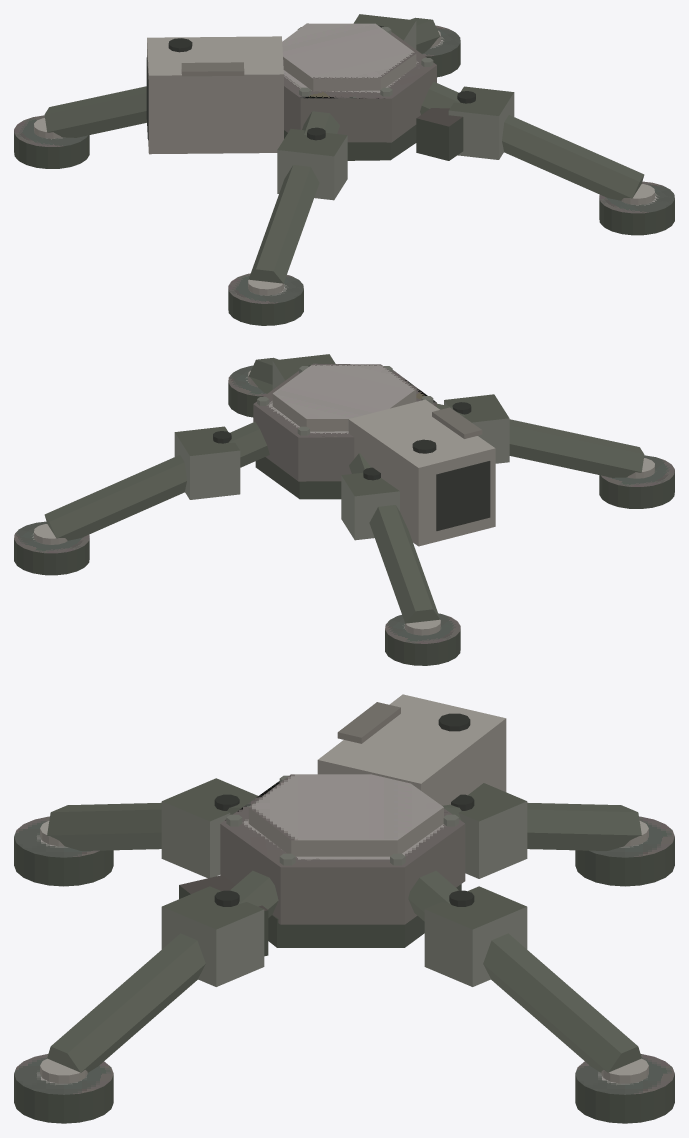
Rendered from Building_AncientMegaCannonTripod.glb.
3 views of the same model, one above another, from view 1: azimuth 30°, elevation 25°; view 2: azimuth 150°, elevation 25°; view 3: azimuth 270°, elevation 25° (orthographic). The views are drawn at different scales.
Visible parts, largest first — view 1: AncientMegaCannonTripod; view 2: AncientMegaCannonTripod; view 3: AncientMegaCannonTripod.
Boxes of the visible parts, x1=… form: AncientMegaCannonTripod: x1=14, y1=14, x2=674, y2=325; AncientMegaCannonTripod: x1=14, y1=354, x2=674, y2=665; AncientMegaCannonTripod: x1=14, y1=694, x2=674, y2=1123.
Size of the model in its own units: 2.91 by 0.905 by 2.91.
1 material, 1 textured.
